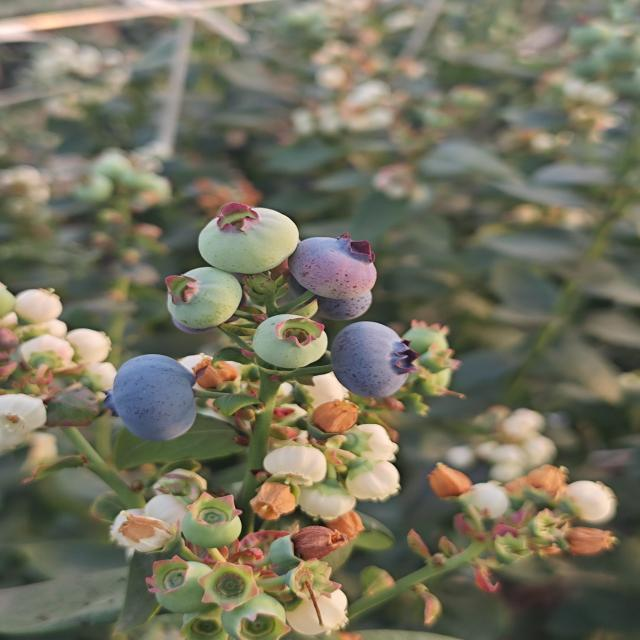ripe: (106, 352, 201, 444), (328, 320, 421, 400), (286, 232, 380, 302), (280, 264, 378, 320)
